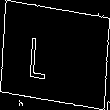L_N: (44, 29, 66, 81)
